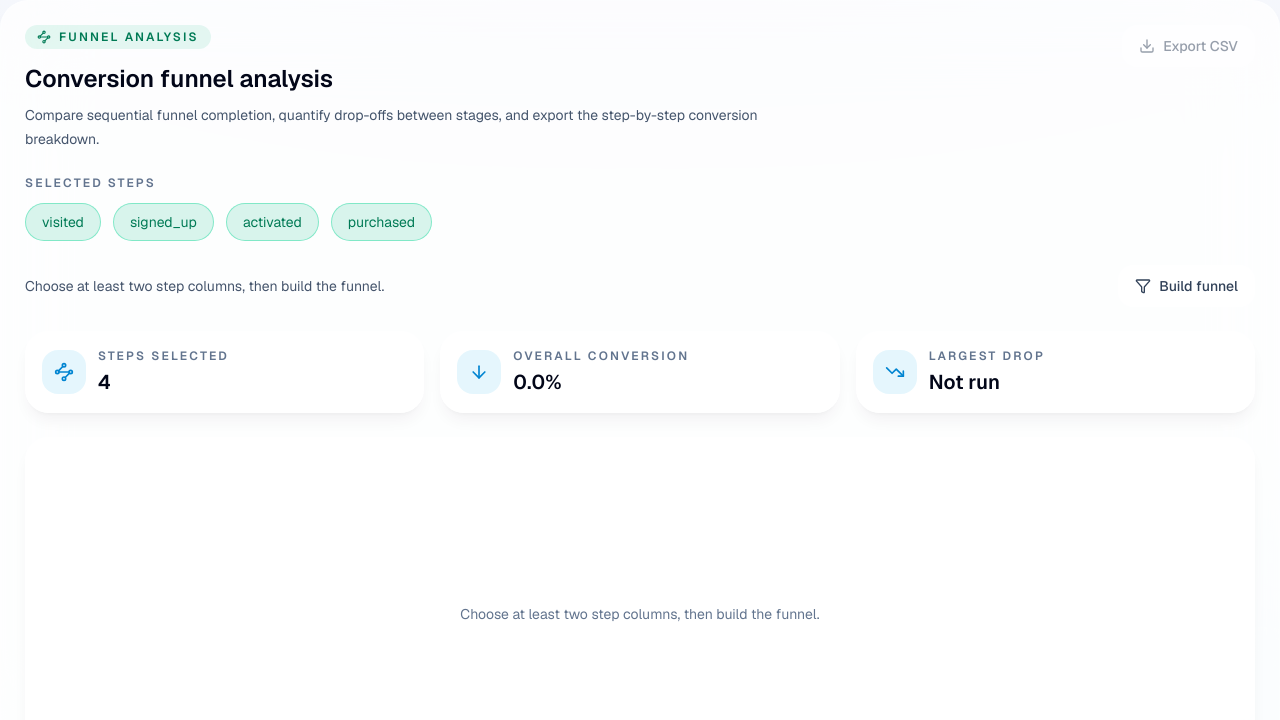
it: FunnelAnalysis › blocks analysis when fewer than two steps are selected
Click the button "signed_up" at (163, 222), box 113,203 -> 214,241
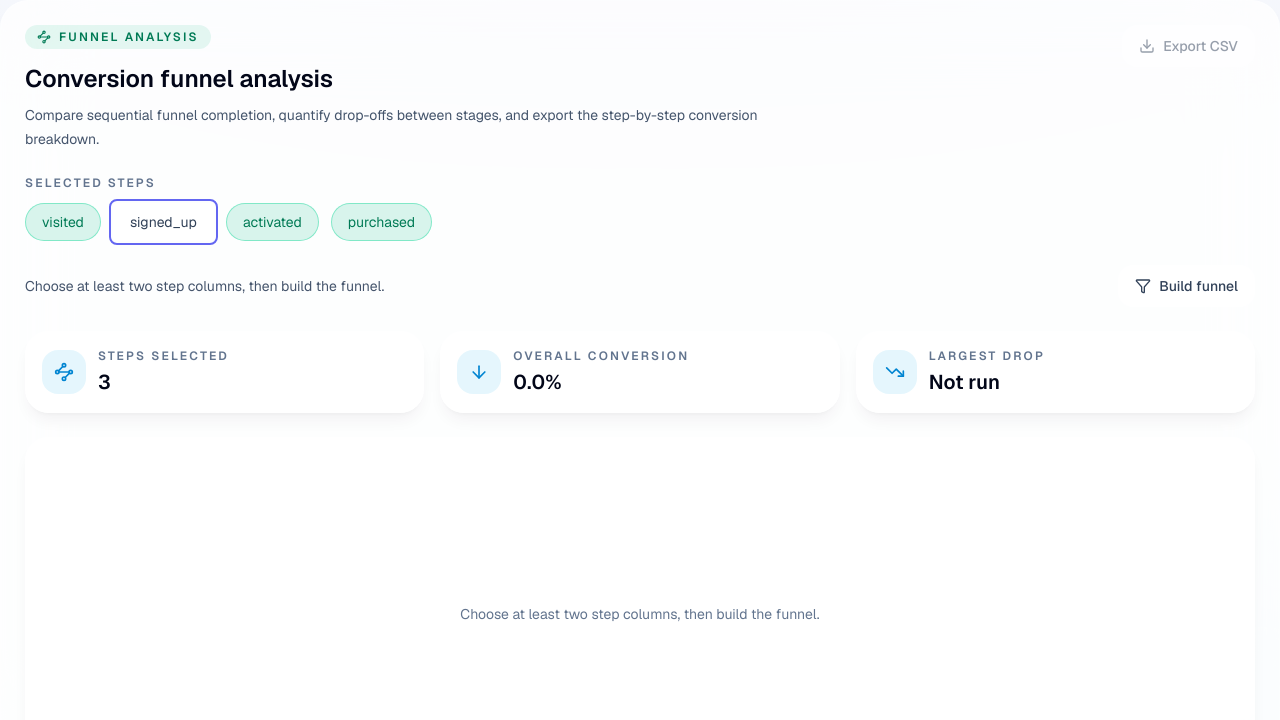
Click the button "activated" at (272, 222), box 226,203 -> 319,241
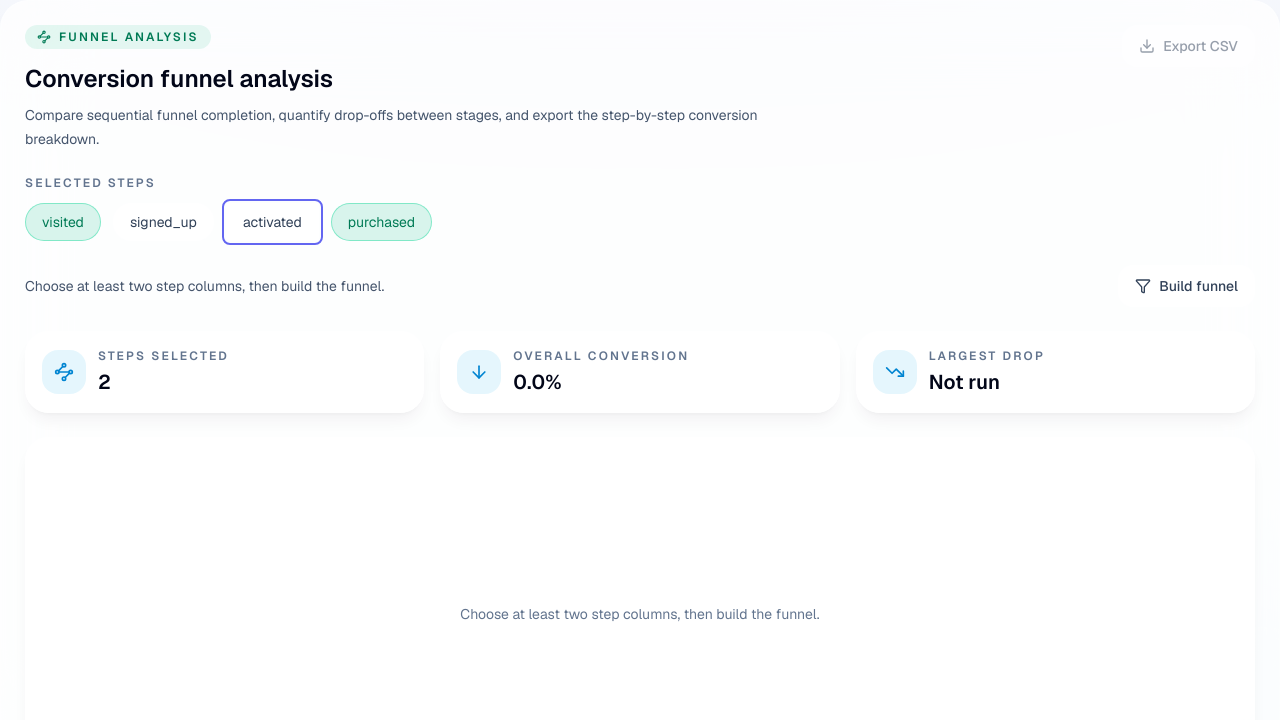
Click the button "purchased" at (381, 222), box 331,203 -> 432,241
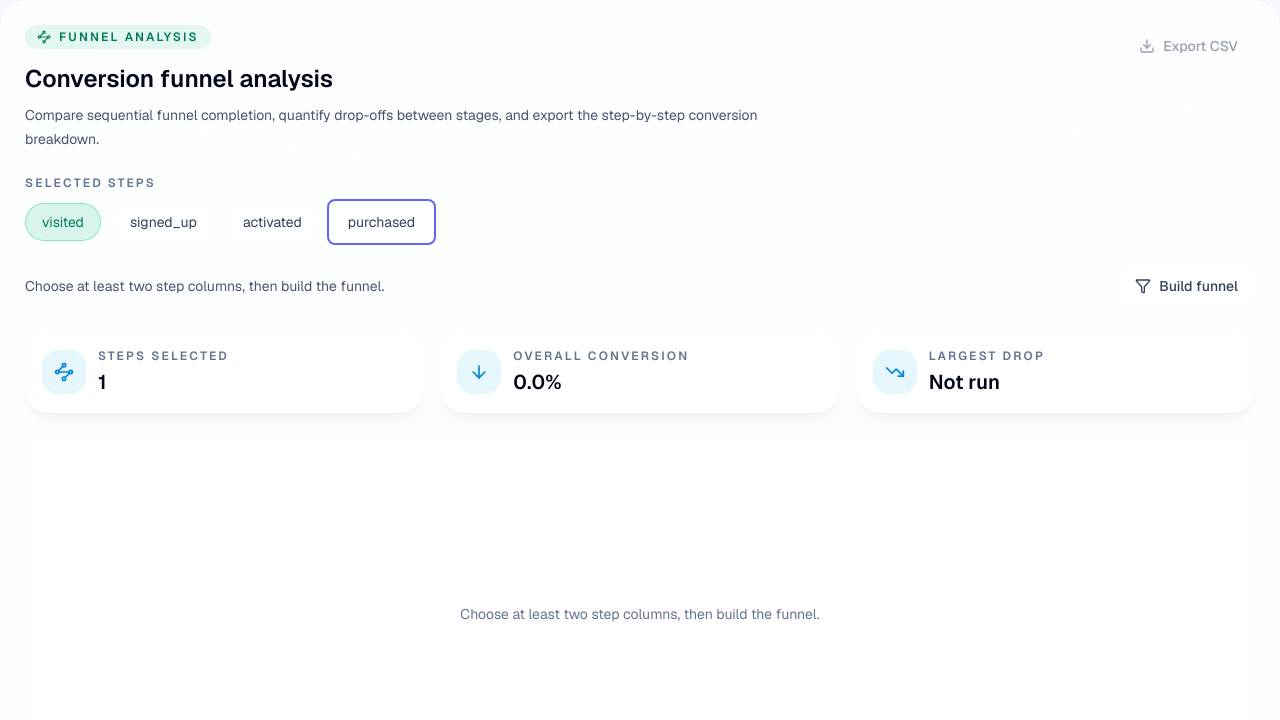
Click the button "Build funnel" at (1187, 286), box 1118,265 -> 1255,307
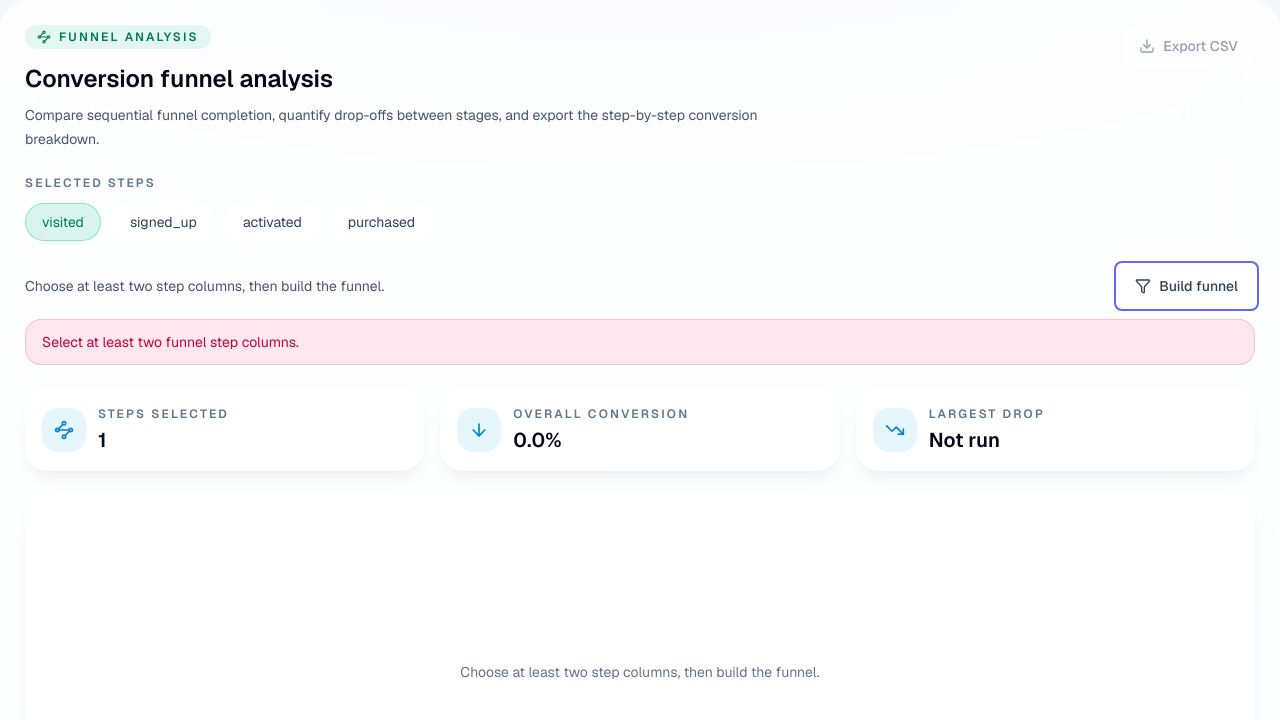
Result: the text "Select at least two funnel step columns." is shown at 25,319 -> 1255,365
